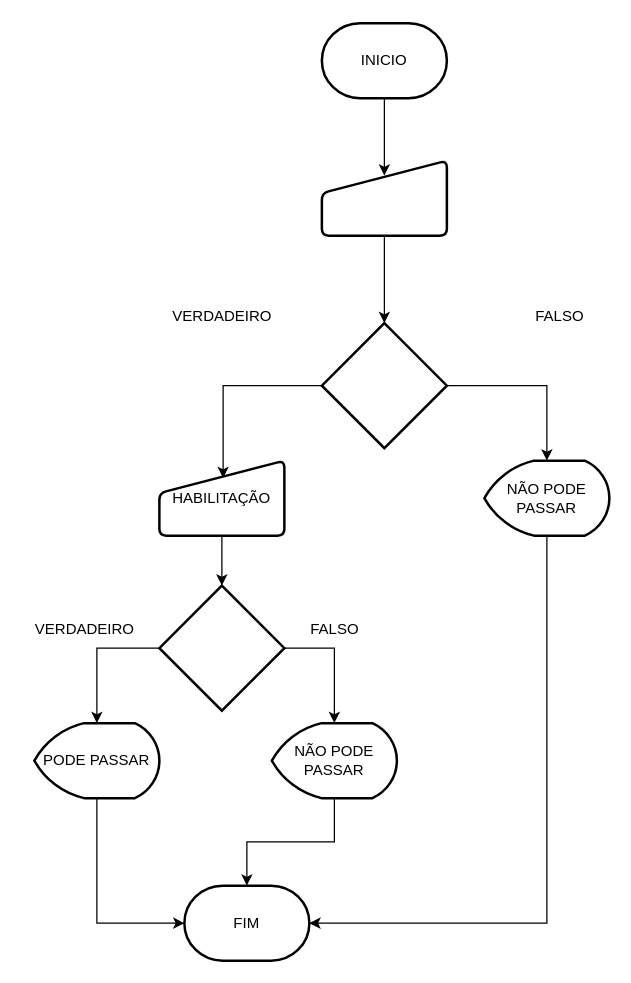
This 631x983 diagram has some shape labels left out. Each missing label, with the centre of its shape:
HAB = SIM: the point at 221,647
IDADE: the point at 384,197
IDADE>=18: the point at 384,385
